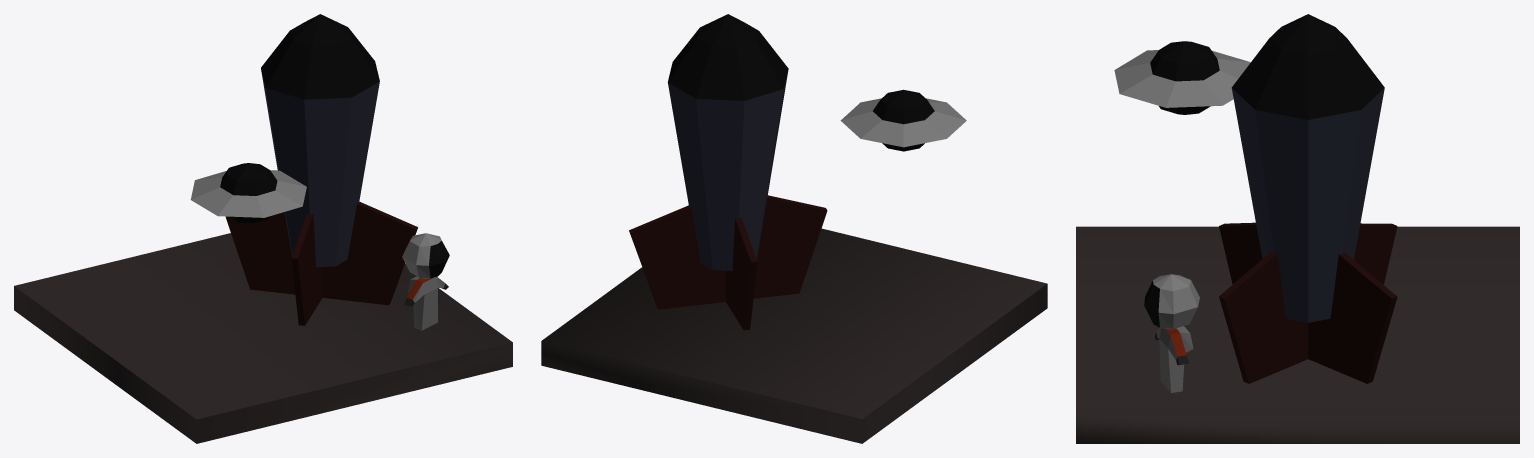
File: W_O_Playground_SpaceSymbolic_001_L3.fbx
The picture shows the model from 3 angles, left to right: view 1: azimuth 30°, elevation 25°; view 2: azimuth 150°, elevation 25°; view 3: azimuth 270°, elevation 25°; orthographic projection. The views are drawn at different scales.
Parts seen in each view (by area): view 1: W_O_Playground_SpaceSymbolic_001_L3; view 2: W_O_Playground_SpaceSymbolic_001_L3; view 3: W_O_Playground_SpaceSymbolic_001_L3.
Part boxes in pixels (x1=…): W_O_Playground_SpaceSymbolic_001_L3: x1=14, y1=14, x2=512, y2=443; W_O_Playground_SpaceSymbolic_001_L3: x1=541, y1=14, x2=1047, y2=443; W_O_Playground_SpaceSymbolic_001_L3: x1=1076, y1=14, x2=1519, y2=443.
Size of the model in its own units: 2 by 1.85 by 2.
